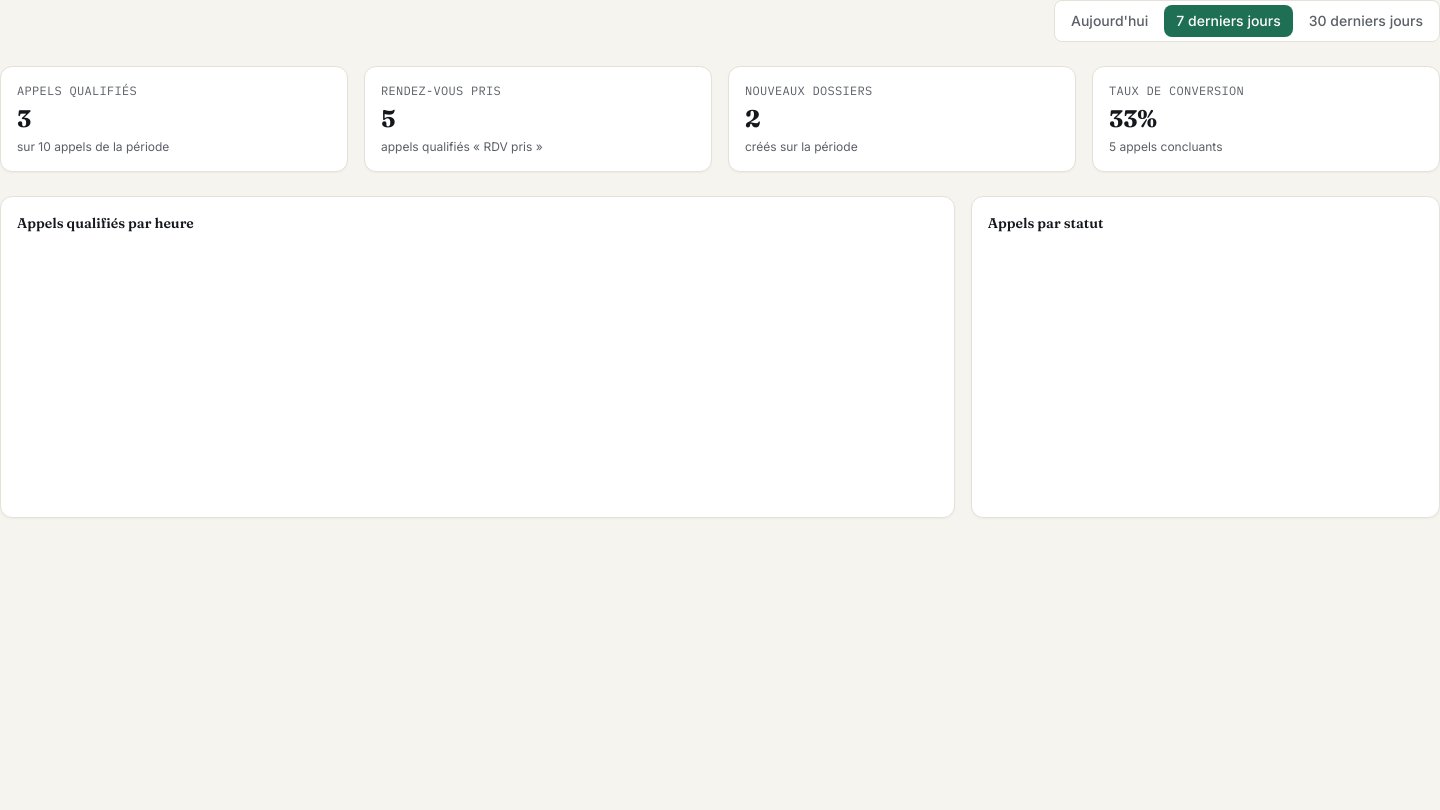
ReportsOverview — carte « Nouveaux dossiers » › le rapport reçoit le userId consulté (avant : jamais transmis) ; clic → GET /clients createdFrom/createdTo + agentId
Click the button "Nouveaux dossiers 2 créés sur la période" at [809, 90], box [728,66,1076,172]
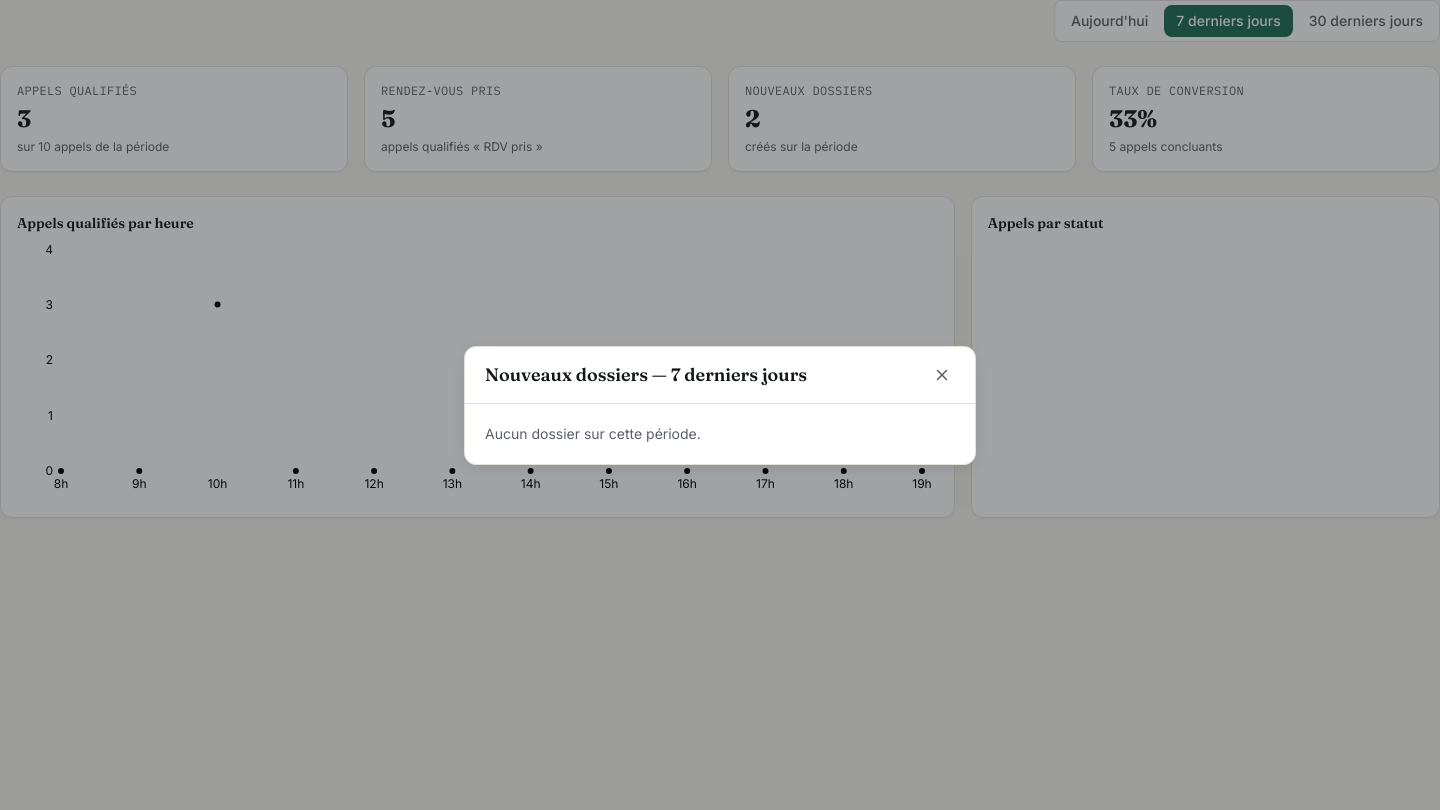
expect the heading "Nouveaux dossiers — 7 derniers jours" is shown: met, box [485,360,807,388]
